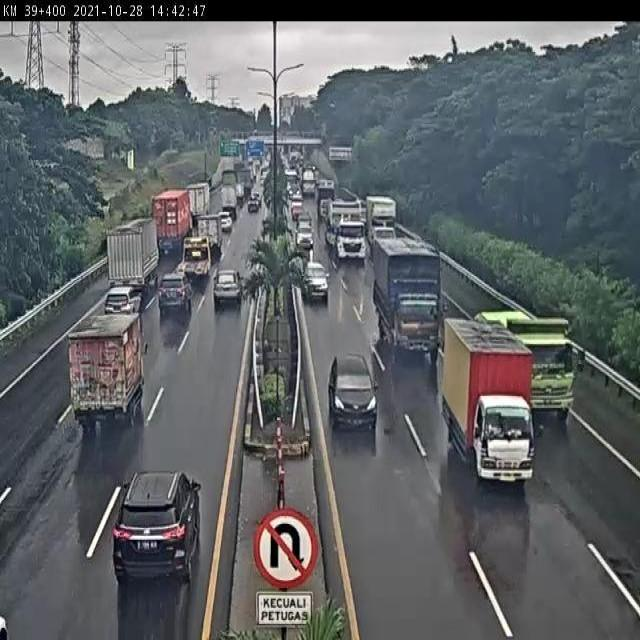ARABA: (112, 470, 201, 590), (331, 354, 378, 434), (155, 273, 193, 319), (101, 281, 142, 316), (303, 264, 328, 305), (212, 271, 242, 305)
KAMYONET: (442, 316, 536, 484), (71, 310, 150, 430), (106, 216, 160, 291), (171, 235, 214, 280)
TIR: (474, 314, 574, 418), (374, 239, 443, 360), (330, 206, 373, 270), (367, 196, 398, 247)
